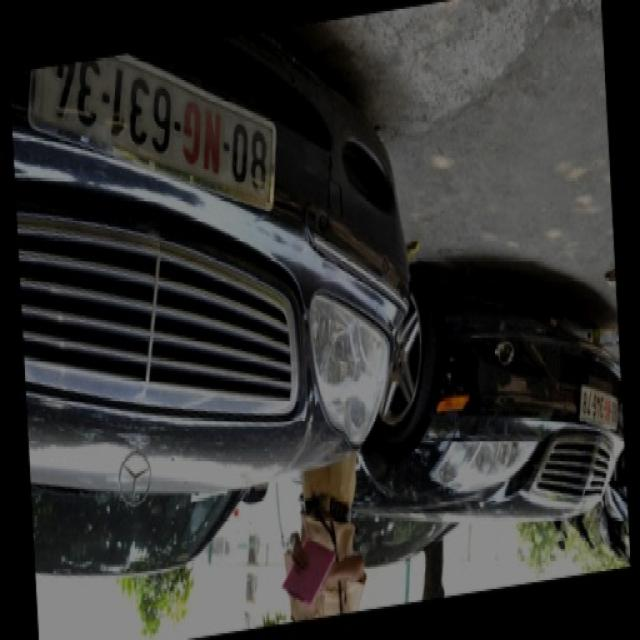bien_ngoai_giao: (51, 41, 278, 228), (579, 383, 625, 436)
